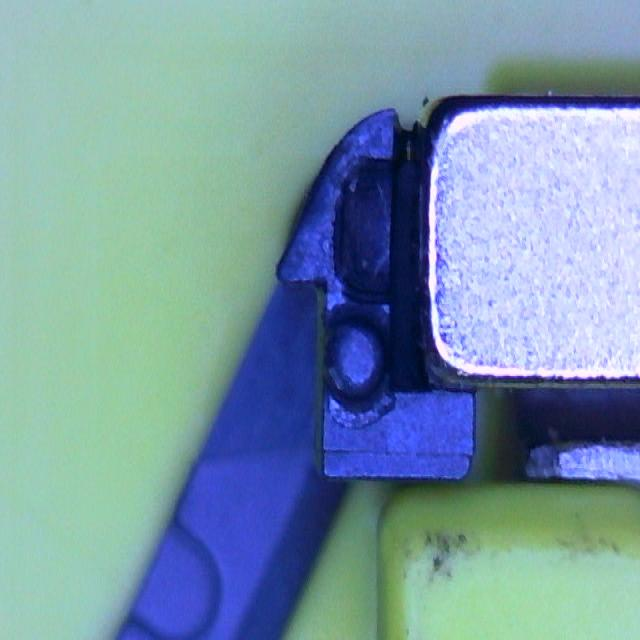over: (329, 153, 399, 305)
